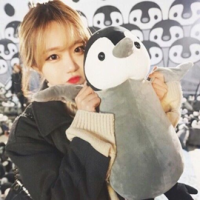face: (36, 22, 90, 93)
